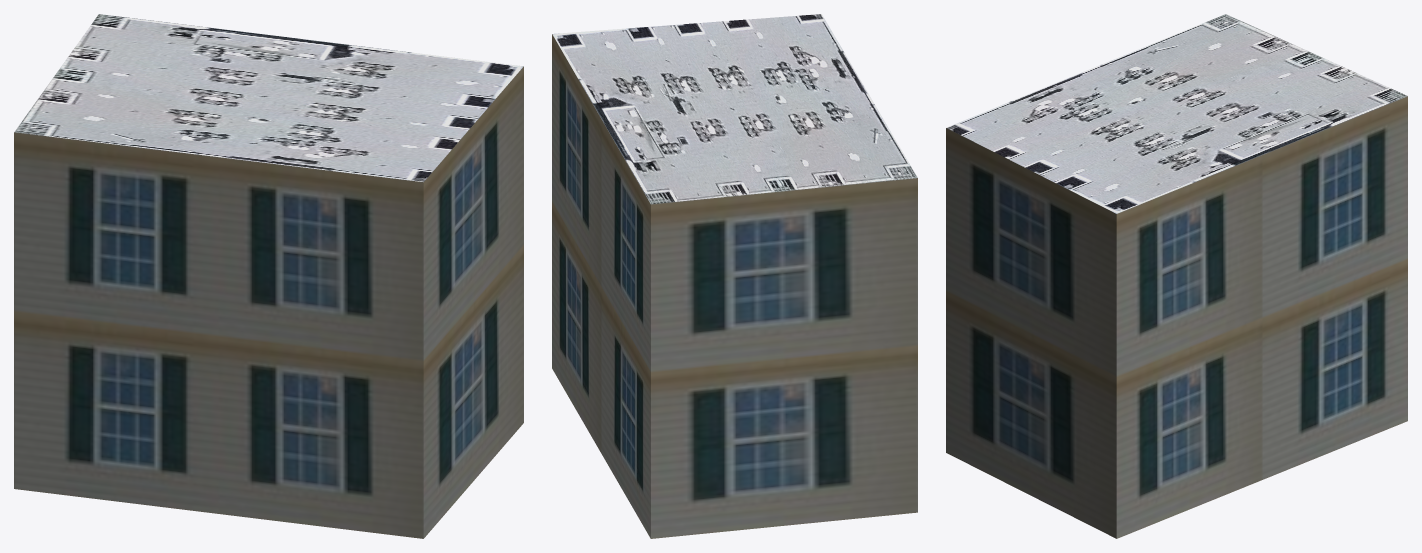
Rendered from ResTex__1044.fbx.
The picture shows the model from 3 angles, left to right: view 1: azimuth 30°, elevation 25°; view 2: azimuth 150°, elevation 25°; view 3: azimuth 270°, elevation 25°; orthographic projection. The views are drawn at different scales.
Parts seen in each view (by area): view 1: CityEngineMaterial_7_m, CityEngineMaterial_15_m; view 2: CityEngineMaterial_7_m, CityEngineMaterial_15_m; view 3: CityEngineMaterial_7_m, CityEngineMaterial_15_m.
Part boxes in pixels (x1=…): CityEngineMaterial_7_m: x1=14, y1=66, x2=523, y2=538; CityEngineMaterial_15_m: x1=14, y1=14, x2=523, y2=181; CityEngineMaterial_7_m: x1=552, y1=34, x2=917, y2=538; CityEngineMaterial_15_m: x1=552, y1=14, x2=917, y2=204; CityEngineMaterial_7_m: x1=946, y1=96, x2=1407, y2=538; CityEngineMaterial_15_m: x1=946, y1=14, x2=1407, y2=213.
Size of the model in its own units: 7.92 by 6 by 7.73.
Materials: 2 (2 with a texture image).
